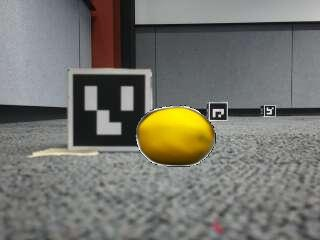lemon: (138, 107, 214, 165)
